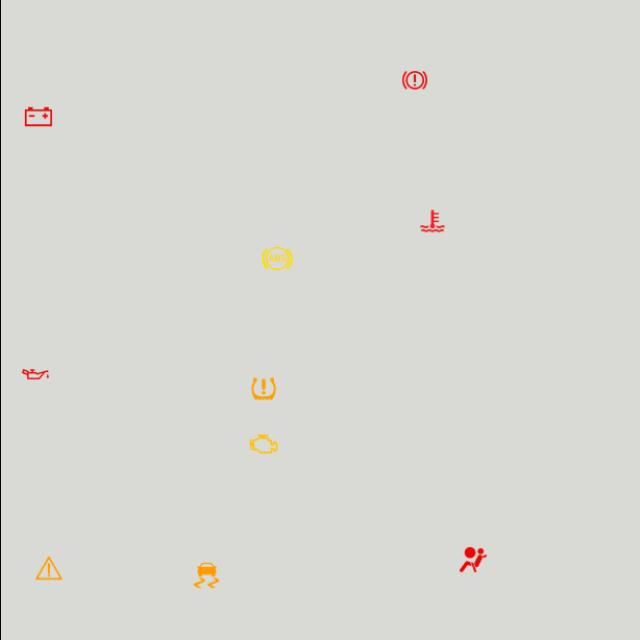Anti Lock Braking System: (259, 242, 293, 276)
Braking System Issue: (397, 64, 431, 98)
Charging System Issue: (20, 100, 54, 134)
Check Engine: (246, 427, 280, 461)
Electronic Stability Problem -ESP-: (188, 558, 222, 592)
Engine Overheating Warning Light: (414, 204, 448, 238)
Low Engine Oil Warning Light: (18, 358, 52, 390)
Low Tire Pressure Warning Light: (246, 372, 280, 406)
Master warning light: (31, 551, 65, 585)
SRS-Airbag: (455, 543, 489, 576)
